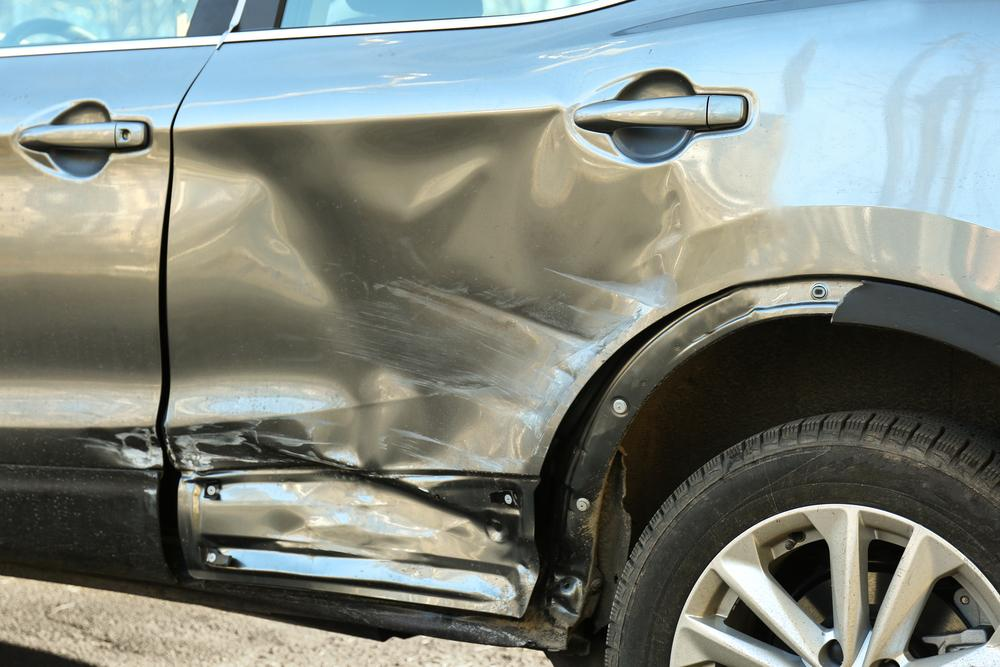dent: (183, 105, 699, 571), (87, 427, 163, 465)
